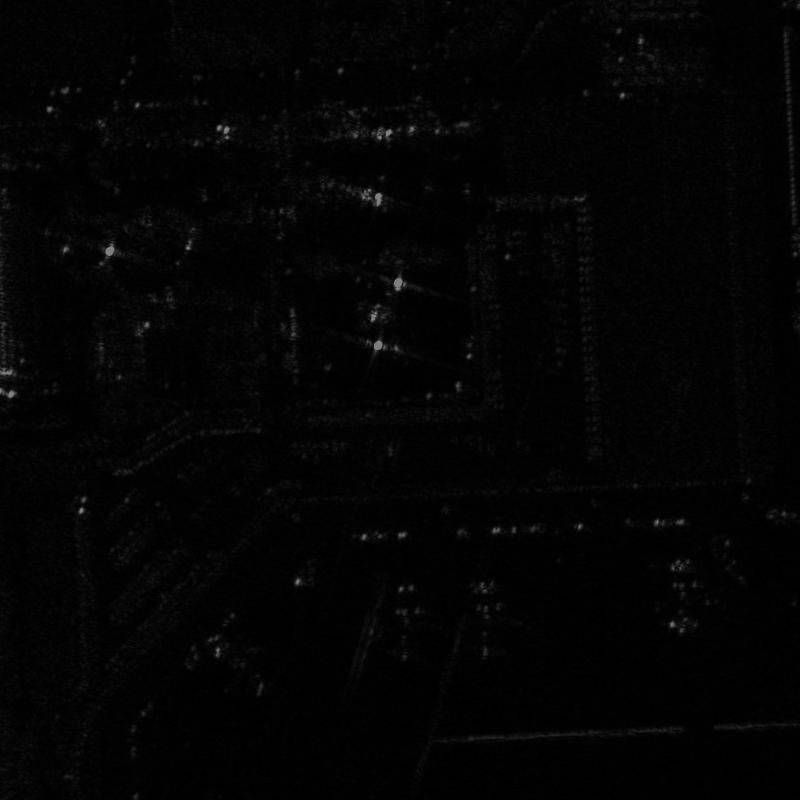Boeing737: (358, 582, 444, 666), (448, 578, 531, 662)
other: (650, 557, 724, 638)
